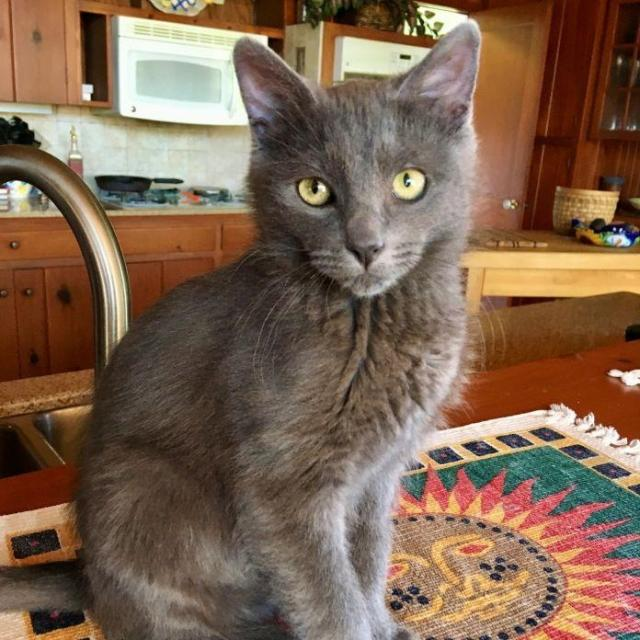russian_blue_cat: (215, 16, 518, 310)
